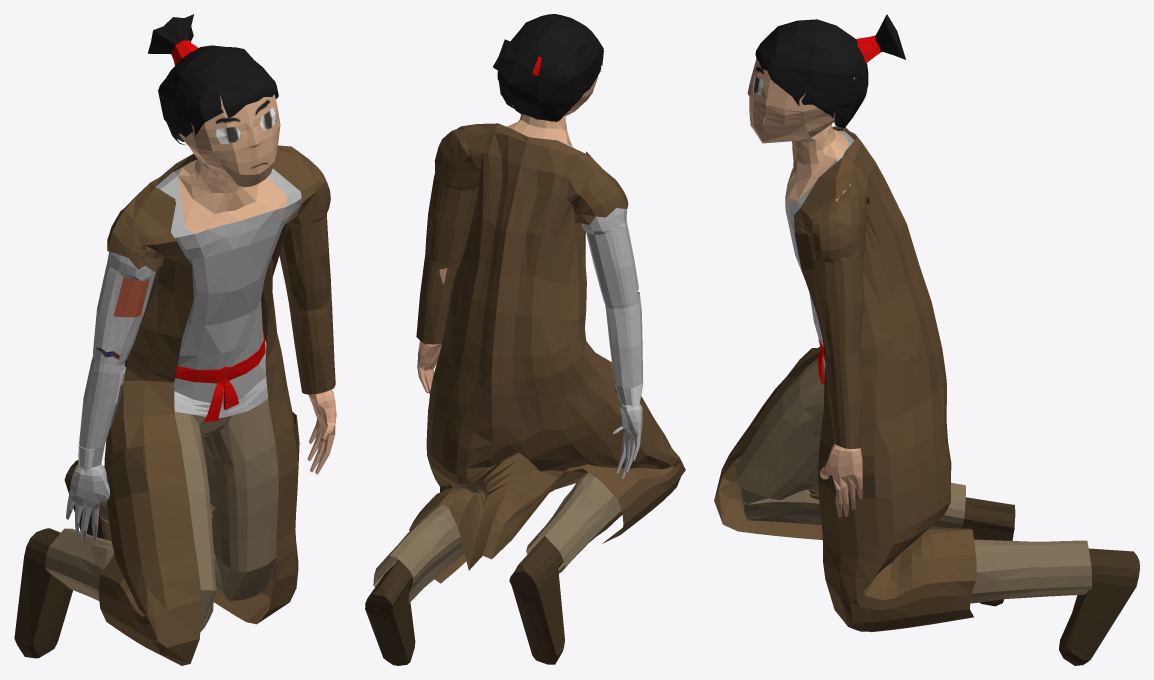
Rendered from One_Die_000010.obj.
3 renders of one model, left to right at view 1: azimuth 30°, elevation 25°; view 2: azimuth 150°, elevation 25°; view 3: azimuth 270°, elevation 25°, orthographic. The views are drawn at different scales.
Parts seen in each view (by area): view 1: Hair_Cube.004; view 2: Hair_Cube.004; view 3: Hair_Cube.004.
Boxes of the visible parts, x1=… form: Hair_Cube.004: x1=14, y1=14, x2=336, y2=665; Hair_Cube.004: x1=365, y1=14, x2=685, y2=665; Hair_Cube.004: x1=714, y1=14, x2=1139, y2=665.
Size of the model in its own units: 1.26 by 3.03 by 1.86.
